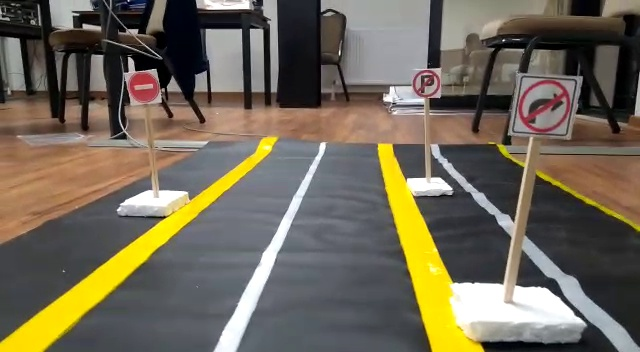girisi_olmayan_yol: (125, 71, 160, 106)
park_yapilmaz: (412, 68, 441, 96)
saga_donulmez: (518, 74, 569, 139)
